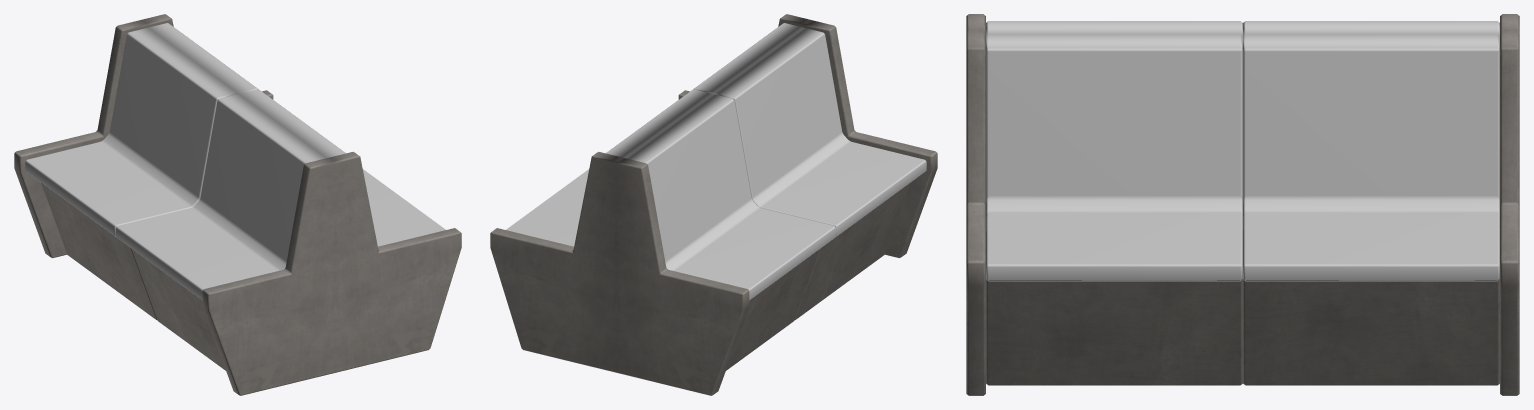
Rendered from Brench_1.fbx.
The picture shows the model from 3 angles, left to right: view 1: azimuth 30°, elevation 25°; view 2: azimuth 150°, elevation 25°; view 3: azimuth 270°, elevation 25°; orthographic projection. The views are drawn at different scales.
Parts seen in each view (by area): view 1: Cube.024, Cube.087; view 2: Cube.024, Cube.087; view 3: Cube.087, Cube.024.
Part boxes in pixels (x1=…): Cube.024: x1=14, y1=14, x2=461, y2=395; Cube.087: x1=25, y1=23, x2=445, y2=300; Cube.024: x1=490, y1=14, x2=937, y2=395; Cube.087: x1=506, y1=23, x2=926, y2=300; Cube.087: x1=986, y1=21, x2=1499, y2=281; Cube.024: x1=966, y1=14, x2=1519, y2=395.
Bounding box in the file's own units: 162 × 129 × 215.
